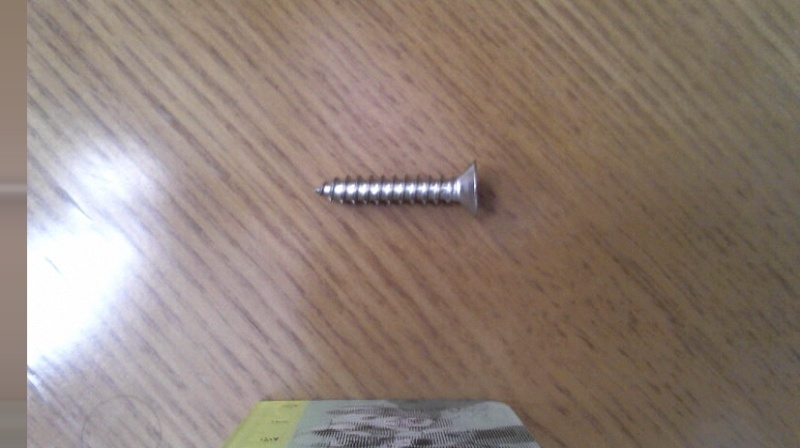S001: (308, 158, 485, 221)
